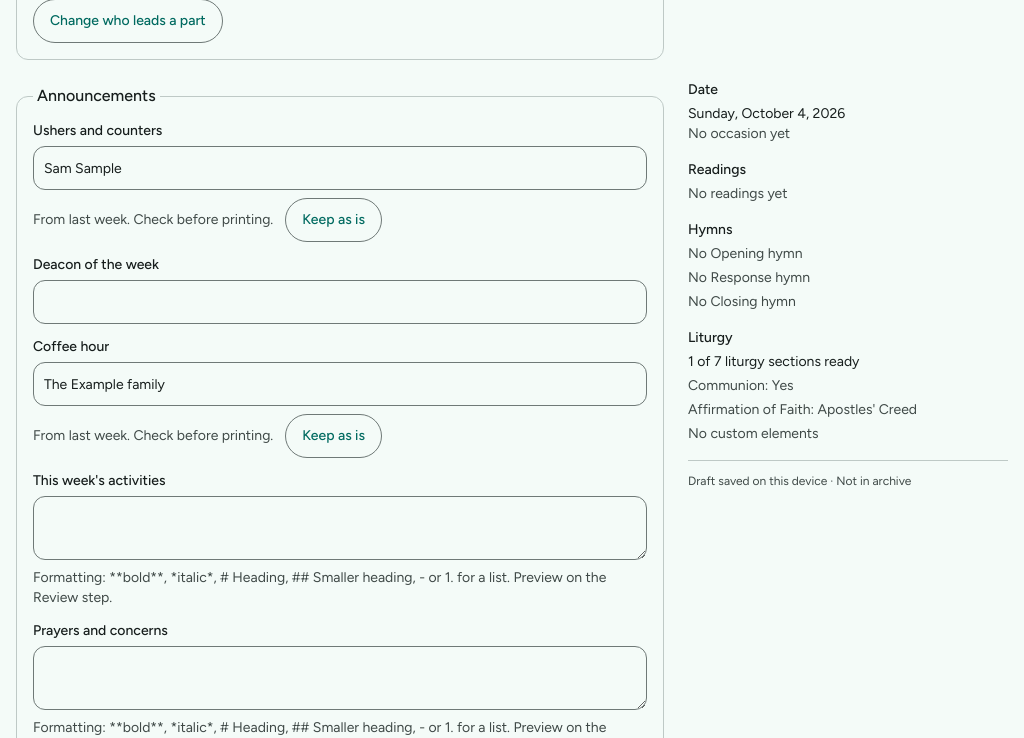
Test: the Bulletin step (printed bulletin PR 2b) › carries last week's music and announcements into a new draft, each marked until it is edited or kept
This screenshot has width=1024, height=738.
(page scrolled)
Step 1. Replace the text in the field labelled "Coffee hour" with "The Sample family" → (340, 384), box [33,362,647,406]
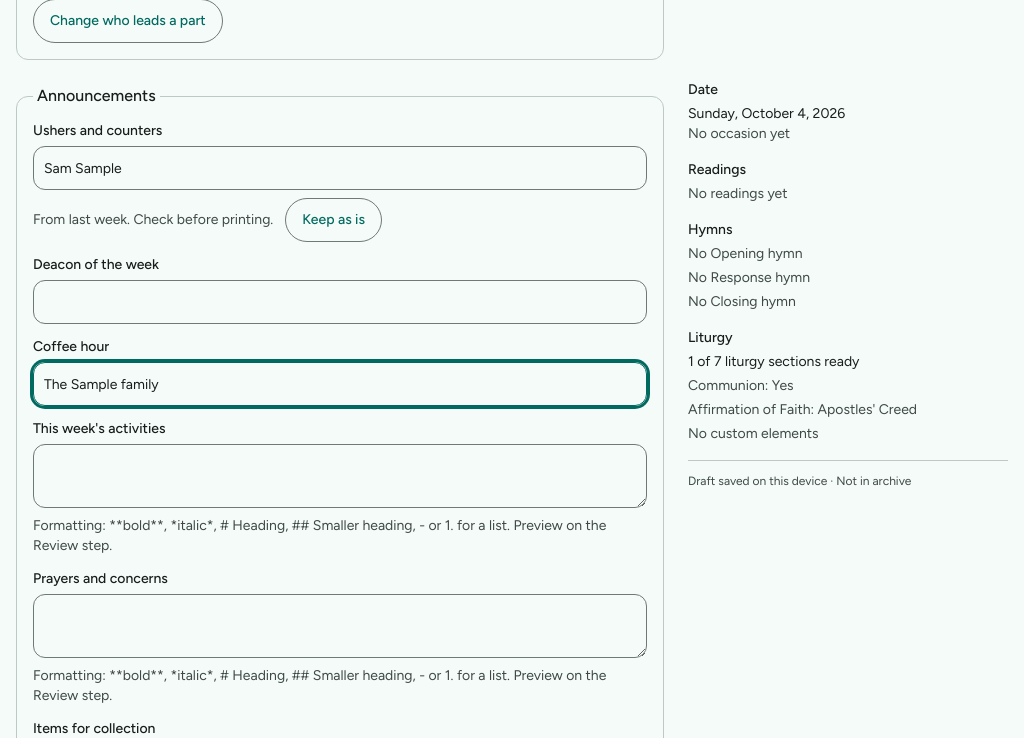
Step 2. Click the button with aria-label "Keep as is: ushers and counters" → (334, 220), box [285,198,382,242]
(page scrolled)
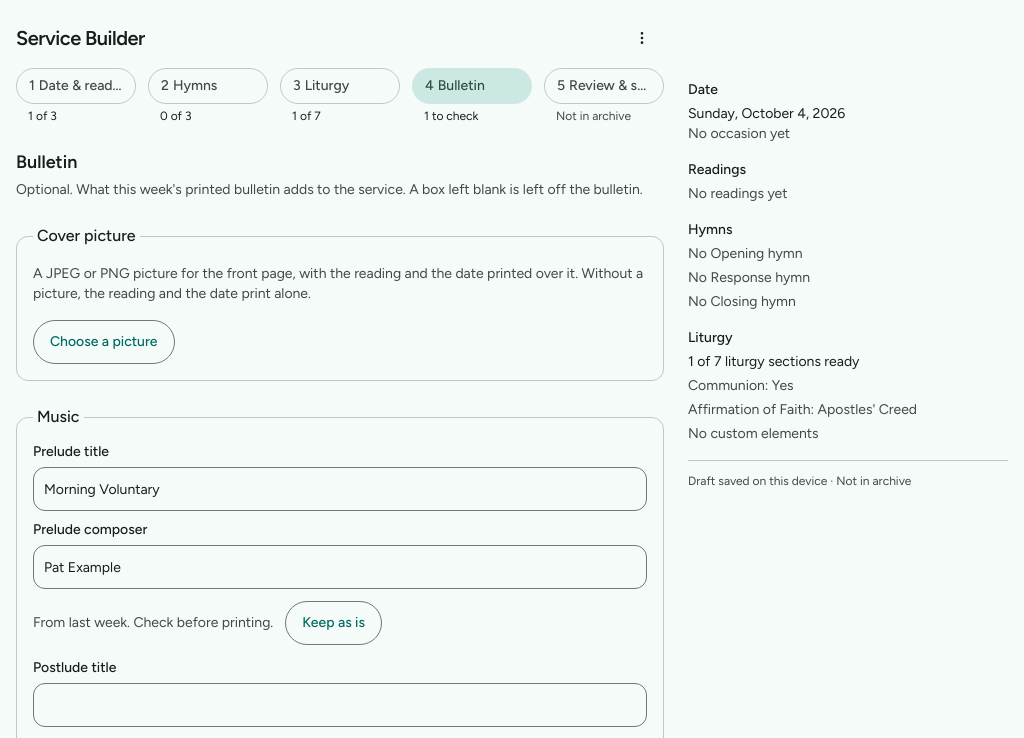
Expected: the text "From last week. Check before printing." is shown once, [33,613,273,633]
Now the link "4 Bulletin 1 to check" is shown, box [412,68,532,124]
